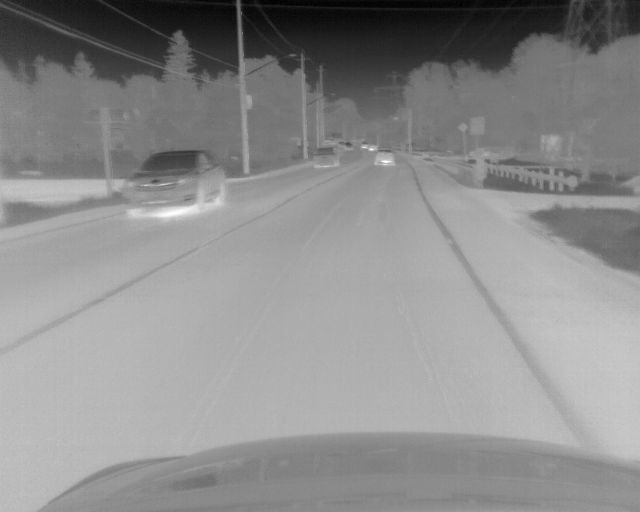car: (125, 150, 225, 220), (311, 146, 339, 169), (374, 148, 394, 166), (342, 141, 353, 150), (360, 141, 368, 149), (368, 143, 375, 151)
